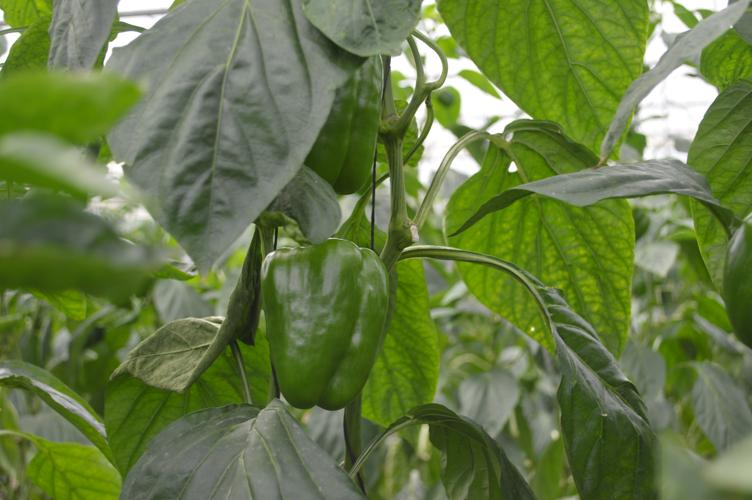BellPepper: (254, 238, 387, 405), (295, 54, 382, 201)
